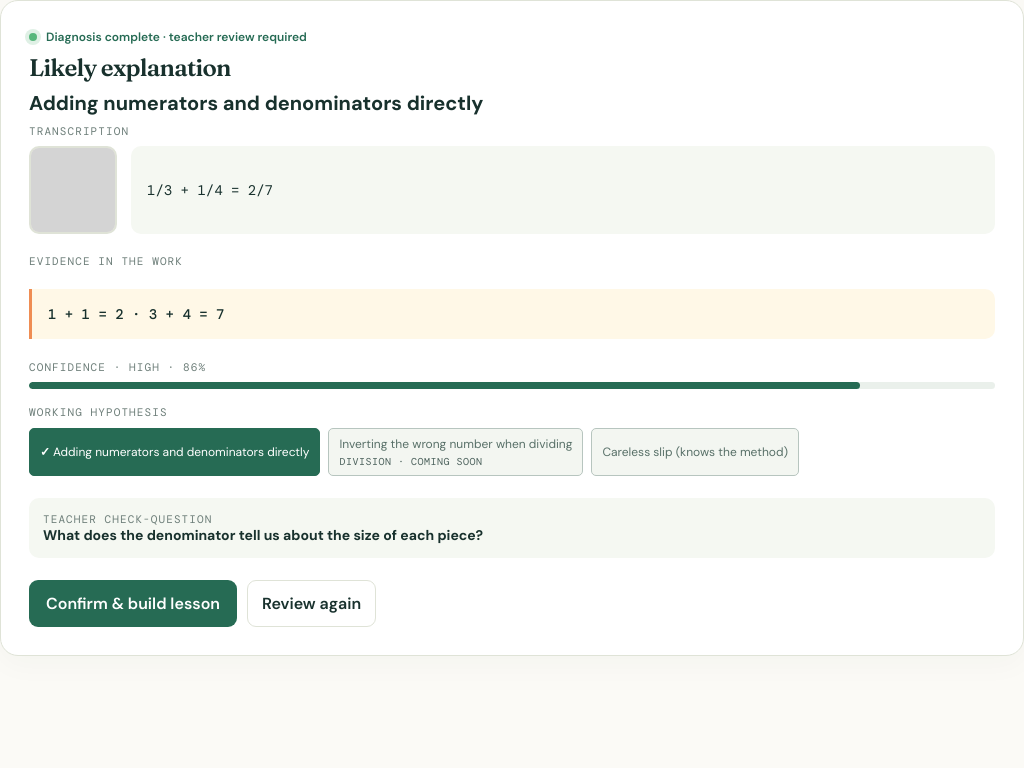
DiagnosisCard › marks division coming soon and prevents confirmation
Click the button "Inverting the wrong number" at (456, 452), box [328,428,584,476]
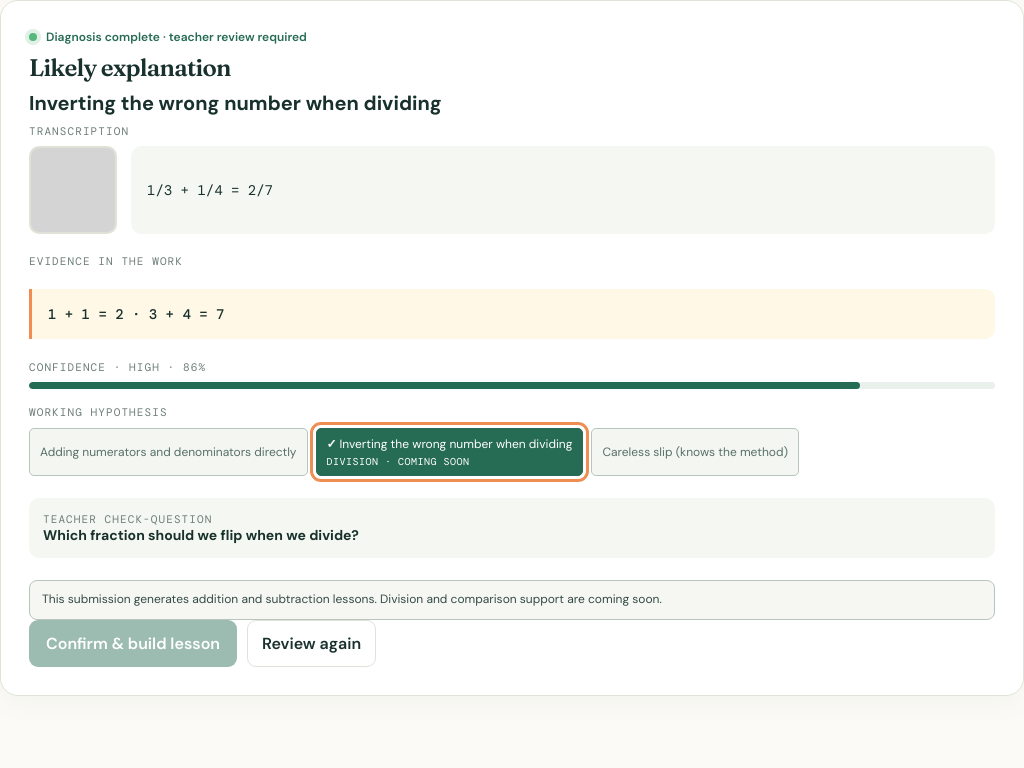
Expected: the text "Division · coming soon" is shown, [326,455,470,468]
Result: the button "Confirm & build lesson" is disabled at [29,620,237,667]
